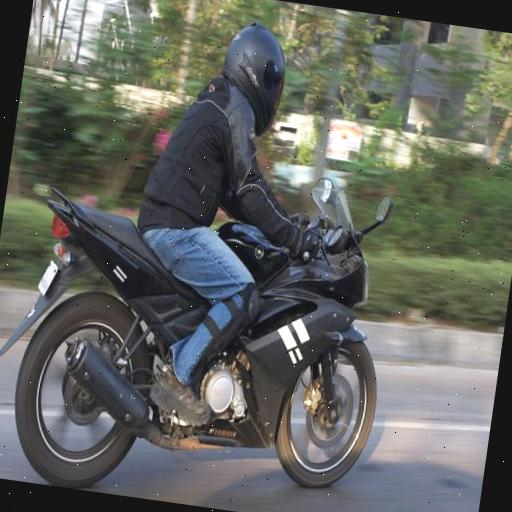helmet: (66, 0, 409, 494)
